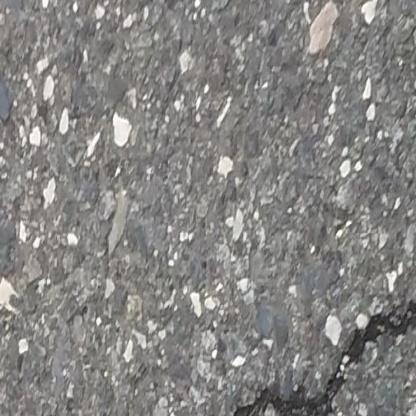Cracks: (218, 299, 416, 416)
